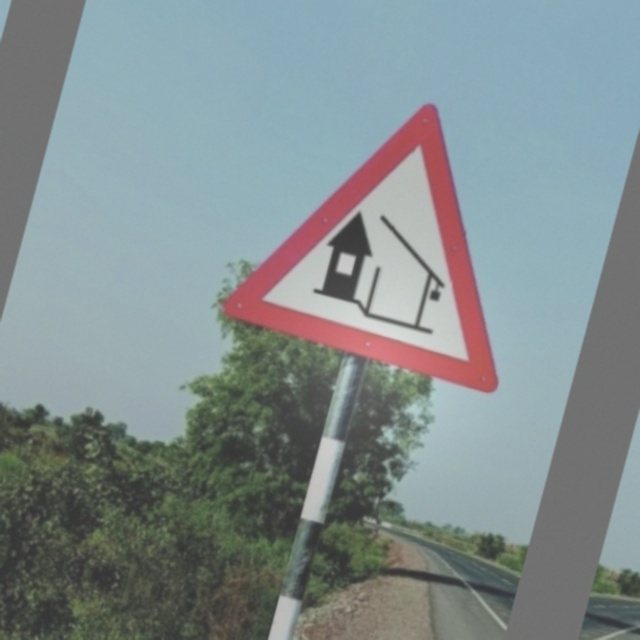Barrier_Ahead: (218, 68, 564, 400)
